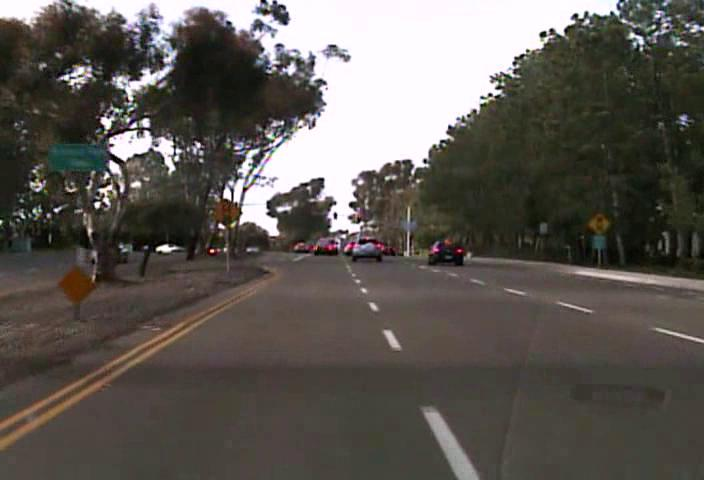signalAhead: (587, 211, 611, 236)
